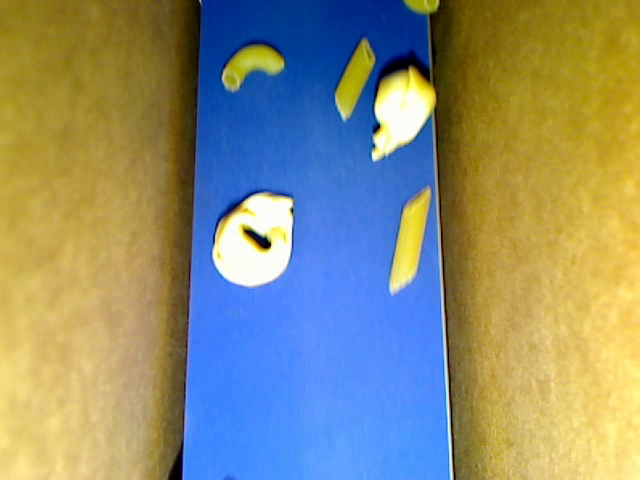elbow: (221, 44, 284, 92), (402, 1, 439, 15)
penne: (390, 185, 432, 295), (334, 35, 376, 120)
tortellini: (211, 189, 293, 288)
